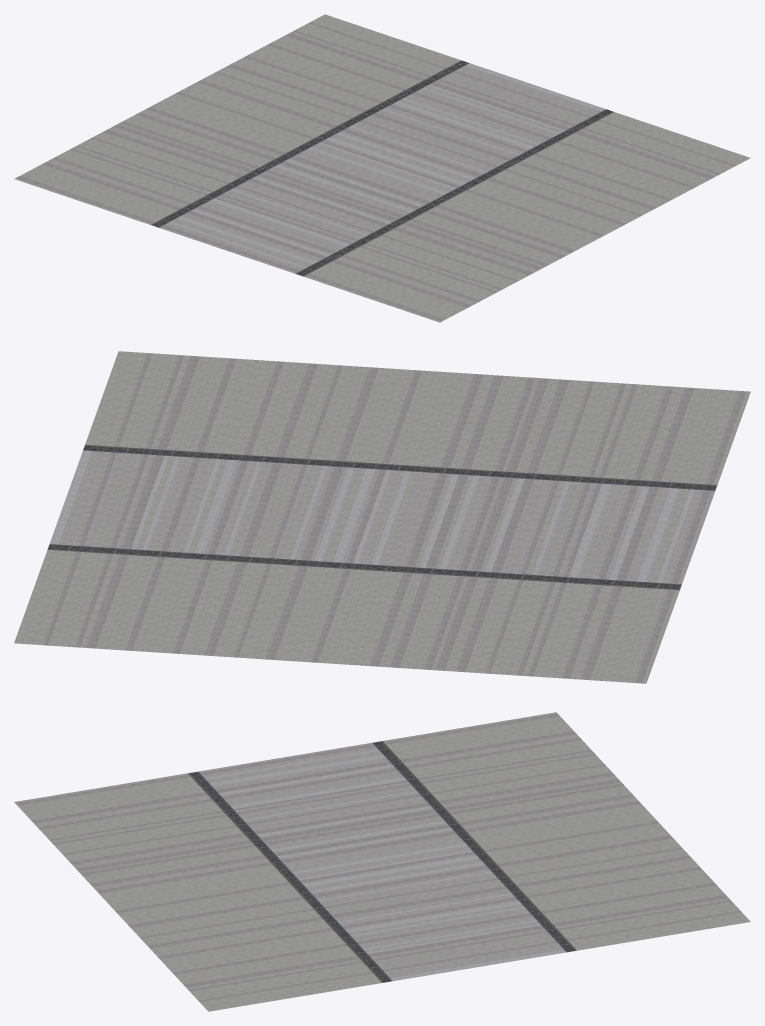
3 views of the same model, one above another, from view 1: azimuth 30°, elevation 25°; view 2: azimuth 150°, elevation 25°; view 3: azimuth 270°, elevation 25° (orthographic). The views are drawn at different scales.
Parts seen in each view (by area): view 1: Side_A_var_055, Side_C_var_054, Side_B_var_055, Side_B_var_056, KT_A_var_027, KT_C_var_027, Side_A_var_056, Side_C_var_055, KT_B_var_027, Rinne_left_054, Rinne_right_054, Rinne_right_055 (+1 smaller); view 2: KT_A_var_027, KT_C_var_027, Side_B_var_055, Side_B_var_056, KT_B_var_027, Side_A_var_055, Side_C_var_054, Side_A_var_056, Side_C_var_055, Rinne_left_054, Rinne_right_054, Rinne_left_055 (+1 smaller); view 3: Side_A_var_056, Side_C_var_055, KT_A_var_027, KT_C_var_027, Side_A_var_055, Side_B_var_055, Side_B_var_056, Side_C_var_054, KT_B_var_027, Rinne_left_054, Rinne_right_054, Rinne_right_055 (+1 smaller).
Part boxes in pixels (left/top/right/bottom): Side_A_var_055: left=14, top=124, right=253, bottom=224; Side_C_var_054: left=511, top=112, right=750, bottom=212; Side_B_var_055: left=118, top=69, right=357, bottom=169; Side_B_var_056: left=407, top=167, right=646, bottom=267; KT_A_var_027: left=159, top=173, right=398, bottom=273; KT_C_var_027: left=366, top=63, right=605, bottom=163; Side_A_var_056: left=304, top=222, right=543, bottom=322; Side_C_var_055: left=221, top=14, right=460, bottom=114; KT_B_var_027: left=263, top=118, right=501, bottom=218; Rinne_left_054: left=151, top=107, right=380, bottom=227; Rinne_right_054: left=295, top=156, right=525, bottom=276; Rinne_right_055: left=518, top=109, right=613, bottom=158; KT_A_var_027: left=471, top=477, right=715, bottom=584; KT_C_var_027: left=49, top=450, right=293, bottom=557; Side_B_var_055: left=225, top=563, right=468, bottom=670; Side_B_var_056: left=296, top=364, right=539, bottom=471; KT_B_var_027: left=260, top=464, right=504, bottom=570; Side_A_var_055: left=436, top=576, right=679, bottom=683; Side_C_var_054: left=85, top=351, right=328, bottom=458; Side_A_var_056: left=507, top=378, right=750, bottom=484; Side_C_var_055: left=14, top=550, right=257, bottom=656; Rinne_left_054: left=227, top=555, right=681, bottom=590; Rinne_right_054: left=262, top=456, right=717, bottom=490; Rinne_left_055: left=47, top=544, right=228, bottom=561; Side_A_var_056: left=14, top=773, right=252, bottom=871; Side_C_var_055: left=512, top=852, right=750, bottom=950; KT_A_var_027: left=198, top=743, right=436, bottom=841; KT_C_var_027: left=328, top=882, right=566, bottom=980; Side_A_var_055: left=383, top=712, right=620, bottom=810; Side_B_var_055: left=448, top=782, right=685, bottom=880; Side_B_var_056: left=79, top=843, right=316, bottom=941; Side_C_var_054: left=144, top=913, right=381, bottom=1011; KT_B_var_027: left=263, top=812, right=501, bottom=911; Rinne_left_054: left=372, top=741, right=521, bottom=892; Rinne_right_054: left=188, top=771, right=336, bottom=923; Rinne_right_055: left=327, top=921, right=392, bottom=982.
Size of the model in its own units: 1857 by 1.18e-13 by 1931.
Materials: 7 (7 with a texture image).
